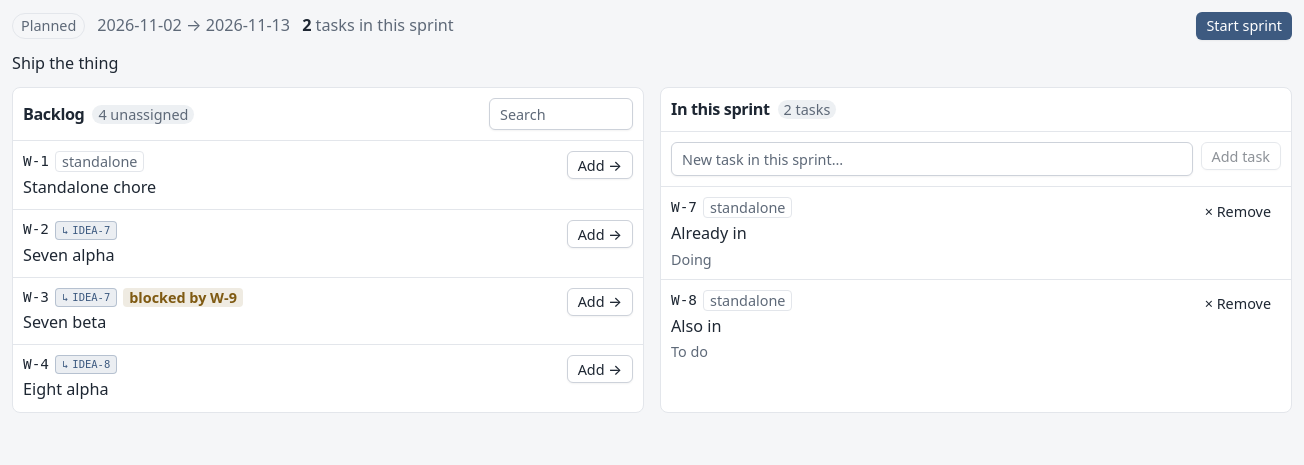
it: sprint planning Add and Remove › Add sends the task with the sprint’s id
Click the button with aria-label "Add W-2 to Sprint 9".
click(600, 234)  # box [567,220,633,248]
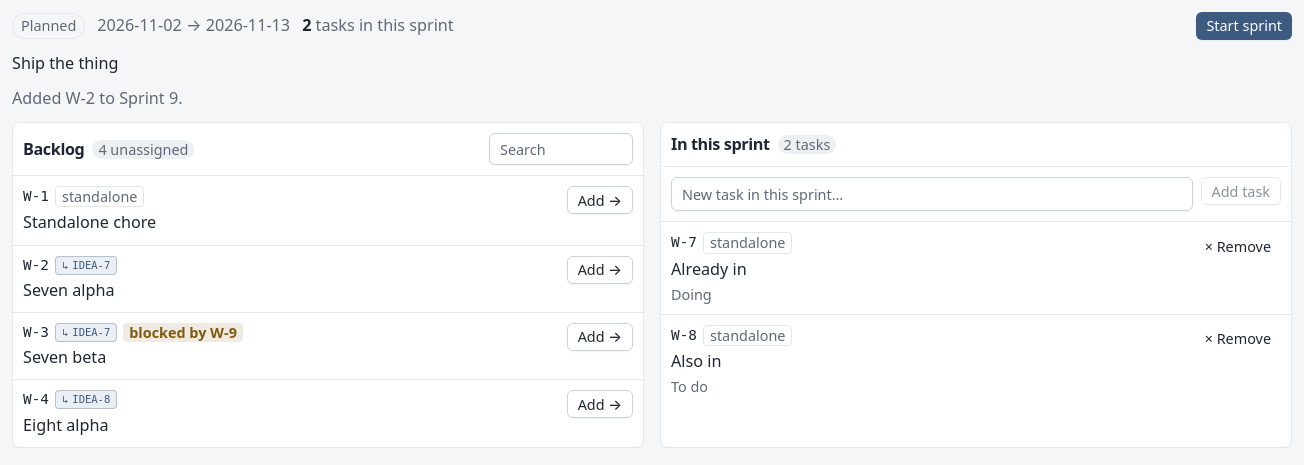
Check: the text "Added W-2 to Sprint 9." is shown, box [12,87,182,109]
